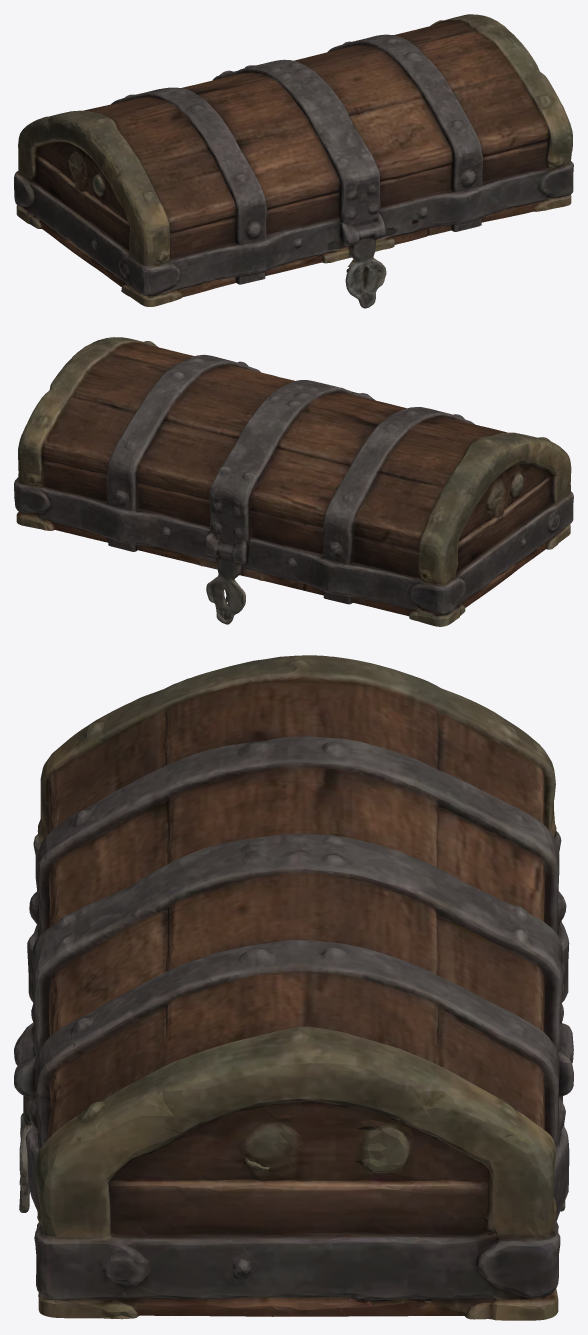
Rendered from lid.glb.
3 renders of one model, top to bottom at view 1: azimuth 30°, elevation 25°; view 2: azimuth 150°, elevation 25°; view 3: azimuth 270°, elevation 25°, orthographic. The views are drawn at different scales.
Visible parts, largest first — view 1: source_surface_0; view 2: source_surface_0; view 3: source_surface_0.
Boxes of the visible parts, left/top/right/bottom form: source_surface_0: left=14, top=14, right=573, bottom=308; source_surface_0: left=14, top=337, right=573, bottom=626; source_surface_0: left=14, top=655, right=573, bottom=1320.
Bounding box in the file's own units: 0.6 × 0.2428 × 0.3384.
Materials: 1 (1 with a texture image).
